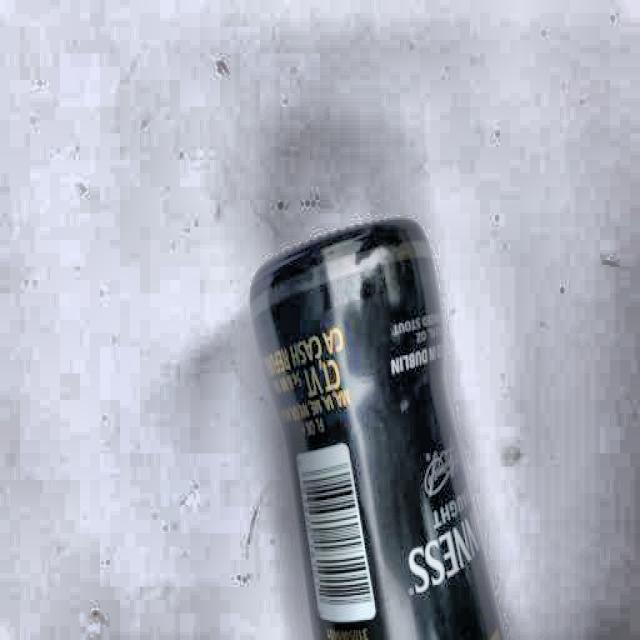glass: (246, 214, 513, 640)
